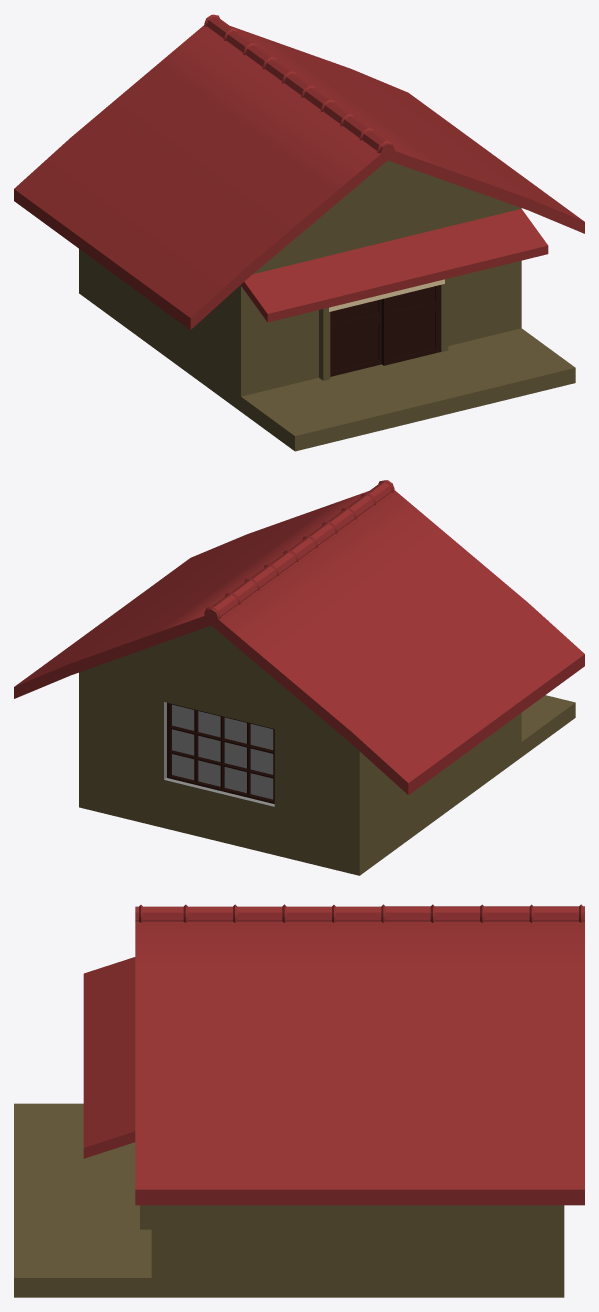
File: office.fbx
3 views of the same model, one above another, from view 1: azimuth 30°, elevation 25°; view 2: azimuth 150°, elevation 25°; view 3: azimuth 270°, elevation 25° (orthographic). The views are drawn at different scales.
Visible parts, largest first — view 1: office(ub); view 2: office(ub); view 3: office(ub).
Boxes of the visible parts, <box> form: office(ub): <box>14,14,584,451</box>; office(ub): <box>14,480,584,875</box>; office(ub): <box>14,904,584,1297</box>.
Size of the model in its own units: 843 by 490 by 830.
